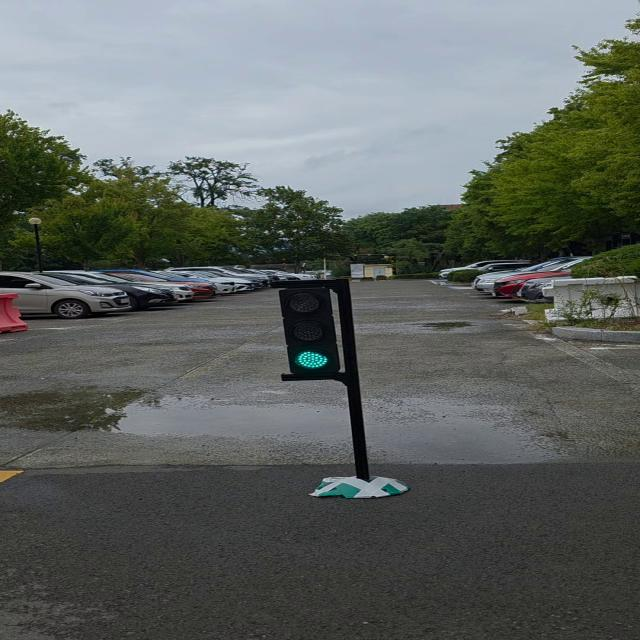green: (280, 282, 359, 379)
